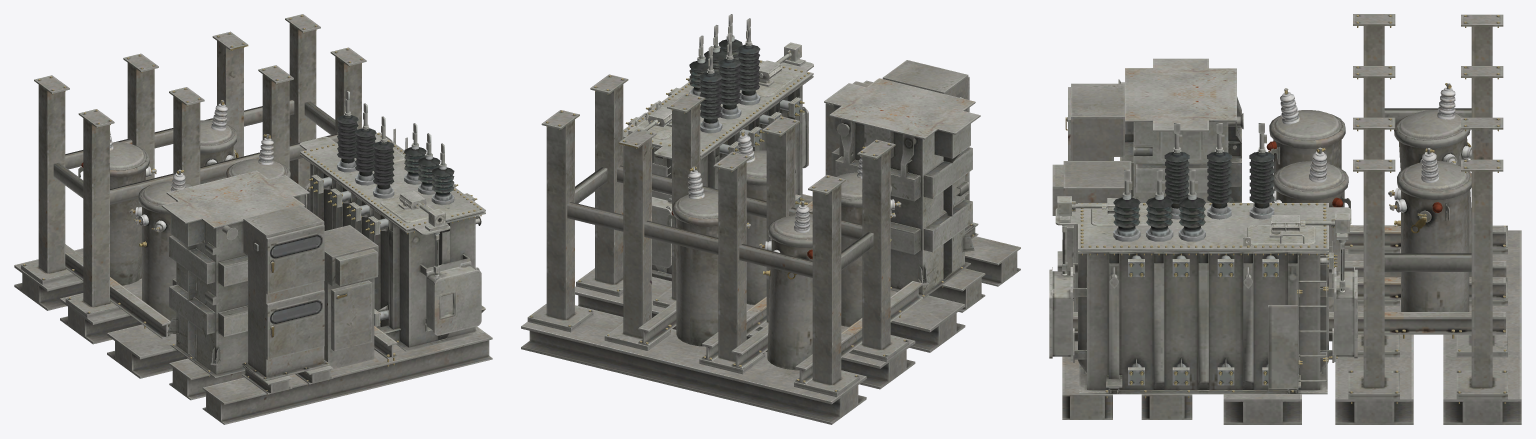
File: sm22_003_transequipment01a.fbx
3 renders of one model, left to right at view 1: azimuth 30°, elevation 25°; view 2: azimuth 150°, elevation 25°; view 3: azimuth 270°, elevation 25°, orthographic. The views are drawn at different scales.
Parts seen in each view (by area): view 1: LOD_1_Group_1_Sub_1__sm22_003_TransEquipment01A_C_Mat, LOD_1_Group_0_Sub_1__sm22_003_TransEquipment01A_B_Mat; view 2: LOD_1_Group_1_Sub_1__sm22_003_TransEquipment01A_C_Mat, LOD_1_Group_0_Sub_1__sm22_003_TransEquipment01A_B_Mat; view 3: LOD_1_Group_1_Sub_1__sm22_003_TransEquipment01A_C_Mat, LOD_1_Group_0_Sub_1__sm22_003_TransEquipment01A_B_Mat.
Boxes of the visible parts, <box> form: LOD_1_Group_1_Sub_1__sm22_003_TransEquipment01A_C_Mat: <box>14,14,492,424</box>; LOD_1_Group_0_Sub_1__sm22_003_TransEquipment01A_B_Mat: <box>161,90,485,377</box>; LOD_1_Group_1_Sub_1__sm22_003_TransEquipment01A_C_Mat: <box>521,51,1020,424</box>; LOD_1_Group_0_Sub_1__sm22_003_TransEquipment01A_B_Mat: <box>623,14,980,298</box>; LOD_1_Group_1_Sub_1__sm22_003_TransEquipment01A_C_Mat: <box>1052,14,1521,424</box>; LOD_1_Group_0_Sub_1__sm22_003_TransEquipment01A_B_Mat: <box>1049,58,1357,394</box>.
Bounding box in the file's own units: 5.9 × 4.1 × 6.72.
